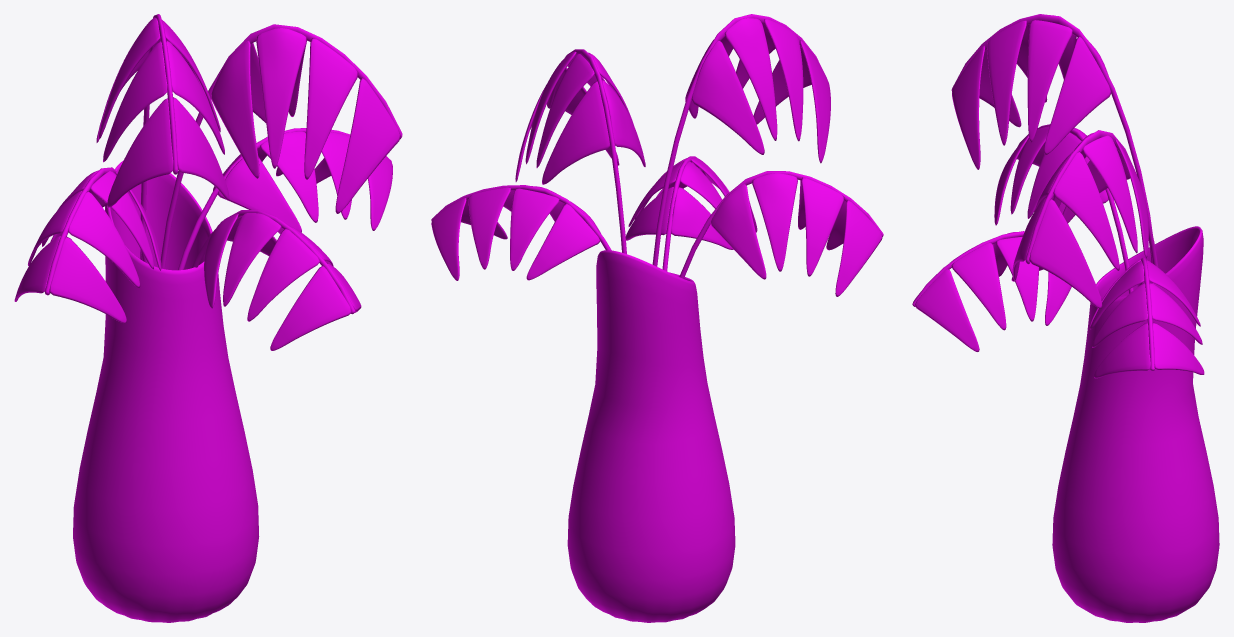
Rendered from PlantPot_msh.fbx.
The picture shows the model from 3 angles, left to right: view 1: azimuth 30°, elevation 25°; view 2: azimuth 150°, elevation 25°; view 3: azimuth 270°, elevation 25°; orthographic projection. The views are drawn at different scales.
Parts seen in each view (by area): view 1: PlantPot_msh; view 2: PlantPot_msh; view 3: PlantPot_msh.
Boxes of the visible parts, <box> form: PlantPot_msh: <box>14,14,402,622</box>; PlantPot_msh: <box>431,14,883,622</box>; PlantPot_msh: <box>912,14,1219,622</box>.
Bounding box in the file's own units: 181 × 258 × 126.
